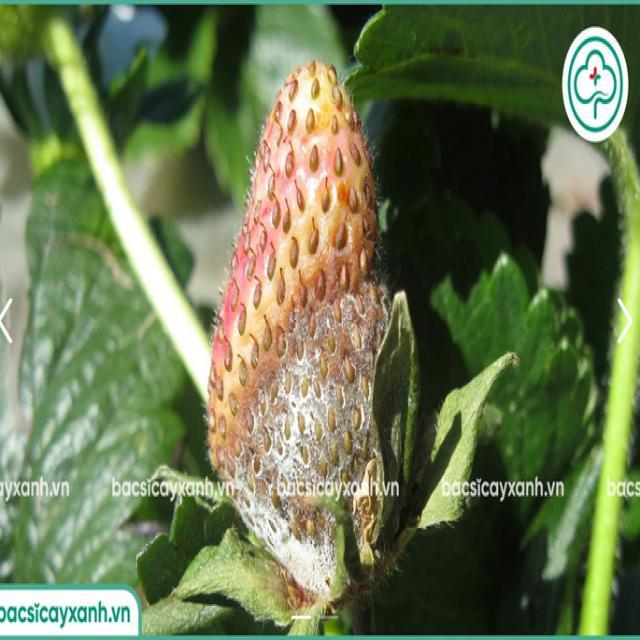Moho gris: (219, 45, 402, 569)
